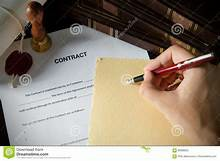pen: (128, 49, 214, 82)
